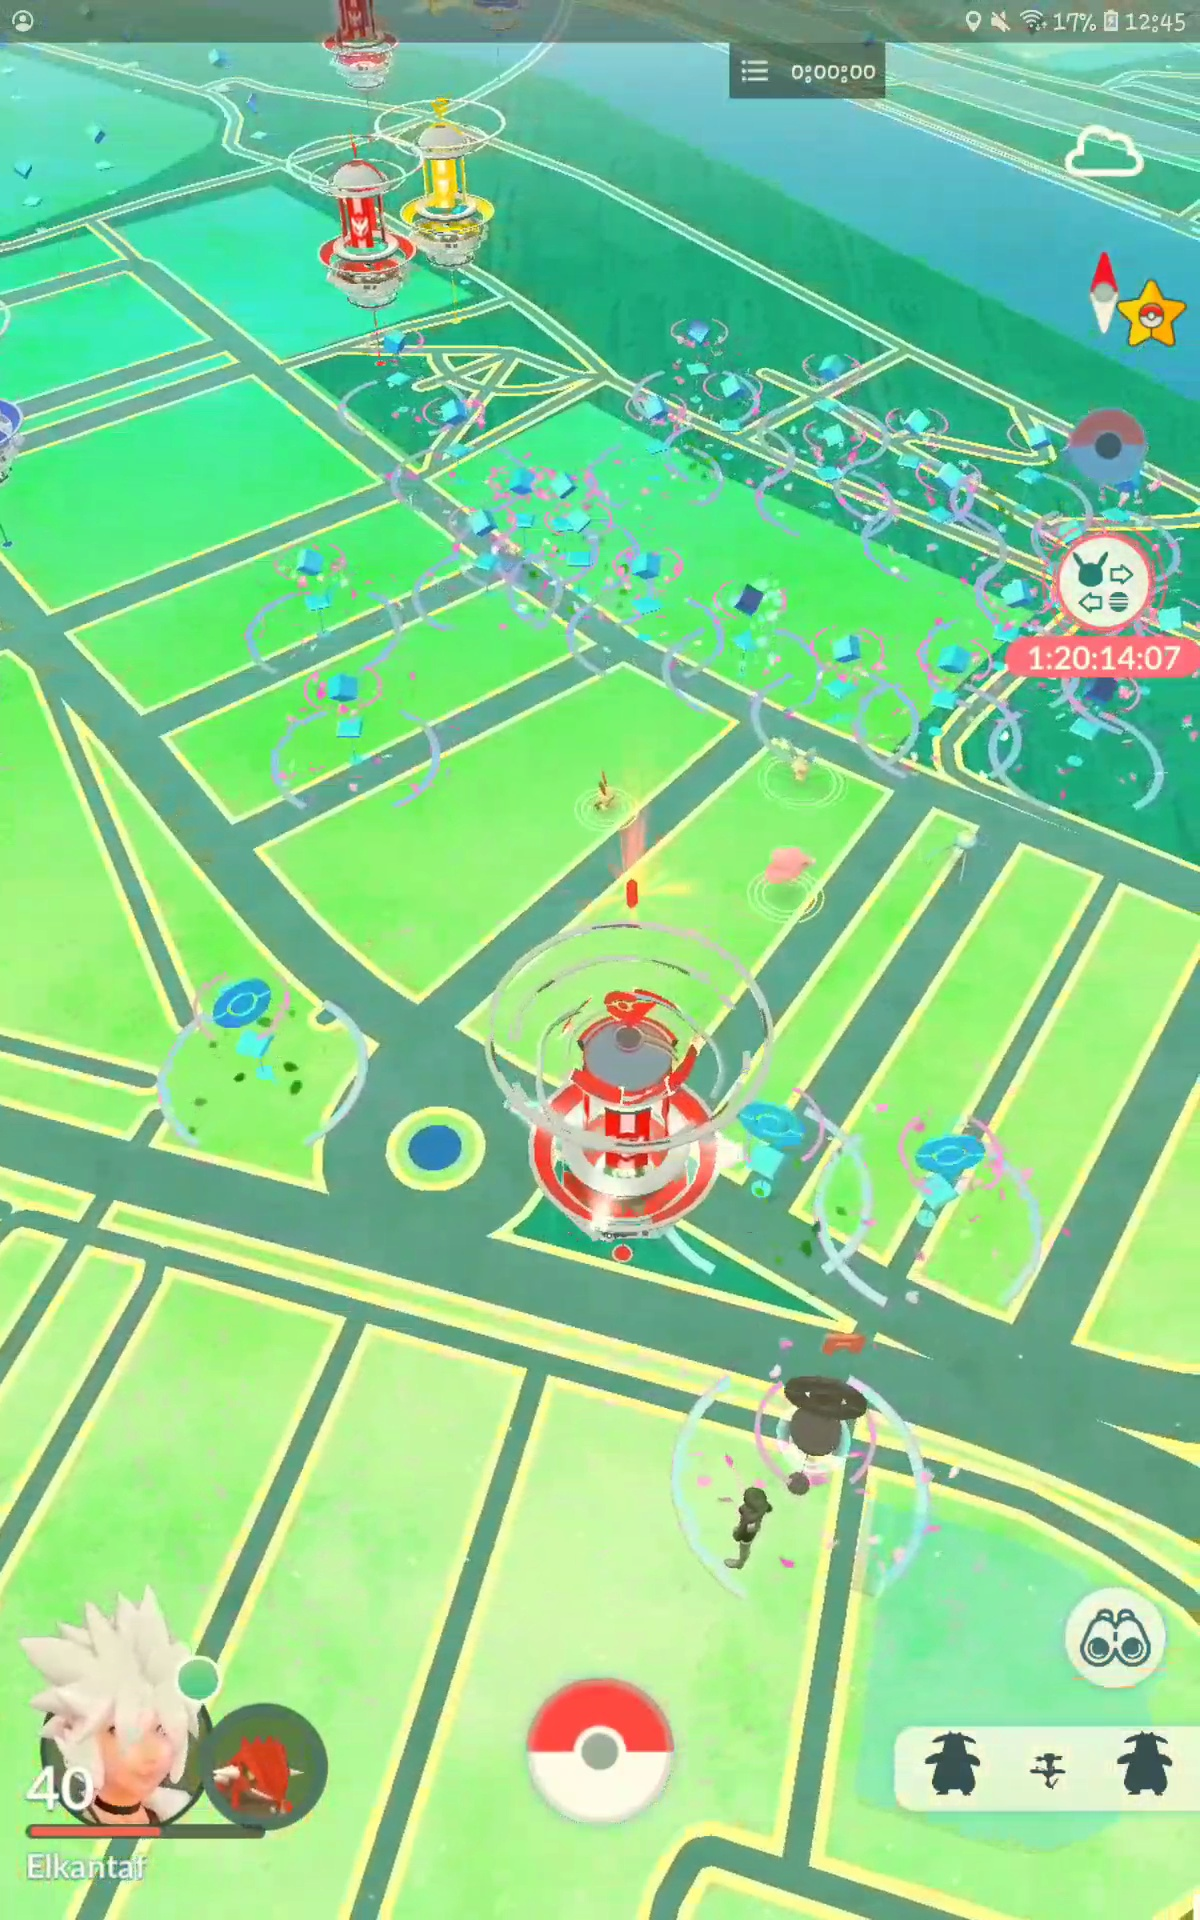Pokemon: (928, 820, 994, 882), (759, 840, 821, 894), (589, 769, 619, 820)
